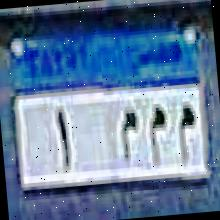1: (51, 105, 78, 173)
meem: (171, 96, 202, 170), (144, 100, 172, 169), (117, 104, 143, 169)
